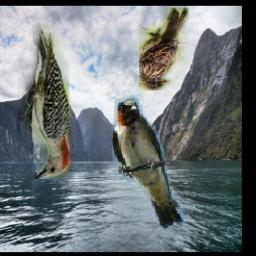Sparrow: (138, 8, 187, 90)
Swallow: (111, 95, 186, 228)
Woodpecker: (17, 17, 70, 179)
